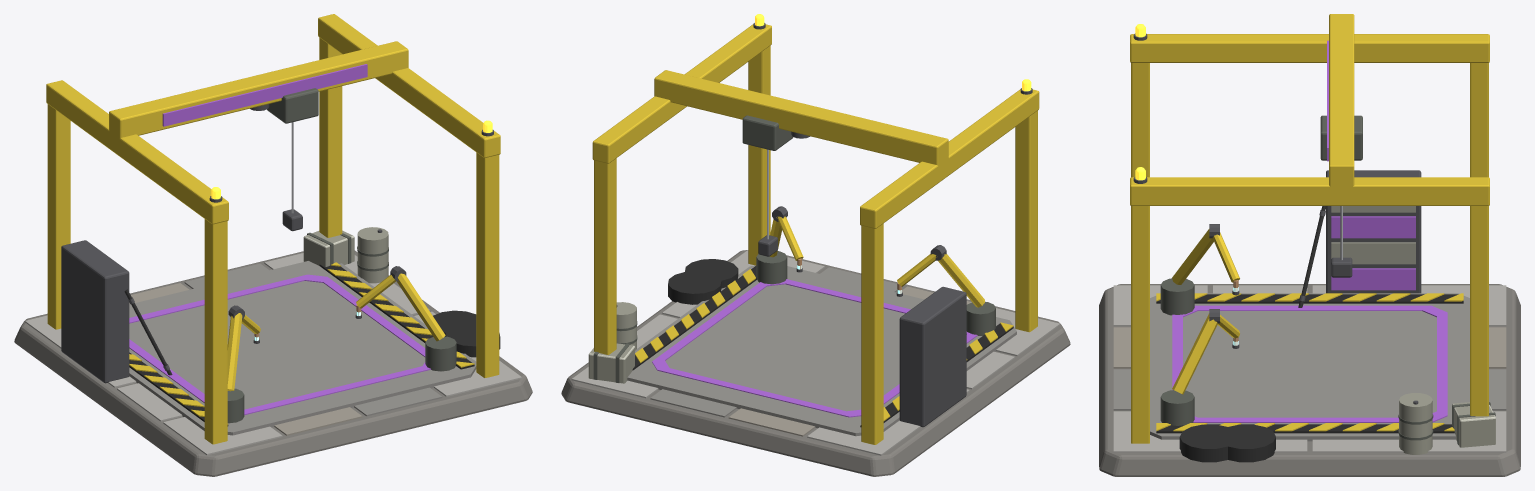
The model's file is repair_bay_purple.glb.
The picture shows the model from 3 angles, left to right: view 1: azimuth 30°, elevation 25°; view 2: azimuth 150°, elevation 25°; view 3: azimuth 270°, elevation 25°; orthographic projection. The views are drawn at different scales.
Parts seen in each view (by area): view 1: Body; view 2: Body; view 3: Body.
Part boxes in pixels (x1,y1,x2,y2): Body: (14, 14, 532, 476); Body: (561, 14, 1070, 476); Body: (1099, 14, 1520, 476).
Bounding box in the file's own units: 4.06 × 3.12 × 3.98.
Materials: 1 (1 with a texture image).
